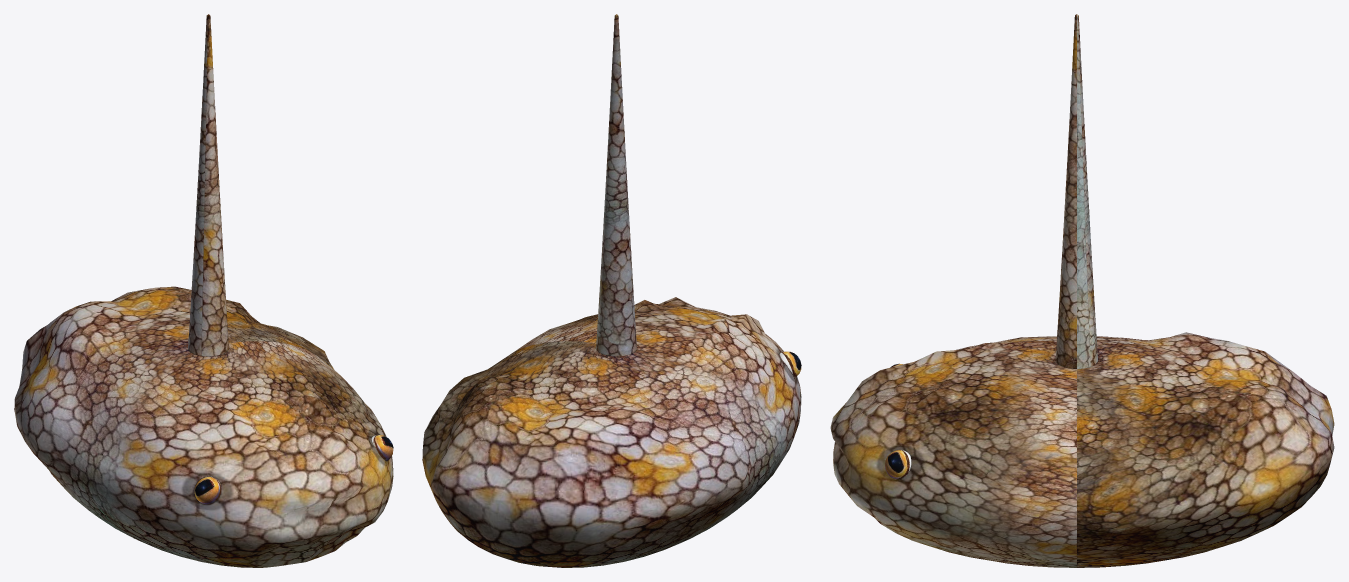
Rendered from kraken.glb.
3 renders of one model, left to right at view 1: azimuth 30°, elevation 25°; view 2: azimuth 150°, elevation 25°; view 3: azimuth 270°, elevation 25°, orthographic. The views are drawn at different scales.
Parts seen in each view (by area): view 1: corps, bras, oeil_droit; view 2: corps, bras; view 3: corps, bras, oeil_droit.
Boxes of the visible parts, bbox=[...] form: corps: bbox=[14, 286, 393, 567]; bras: bbox=[188, 14, 228, 356]; oeil_droit: bbox=[194, 435, 393, 504]; corps: bbox=[422, 297, 801, 567]; bras: bbox=[596, 14, 636, 356]; corps: bbox=[830, 332, 1334, 567]; bras: bbox=[1055, 14, 1097, 368]; oeil_droit: bbox=[885, 363, 911, 479].
Bounding box in the file's own units: 11.84 × 19.47 × 16.76.
Materials: 1 (1 with a texture image).
